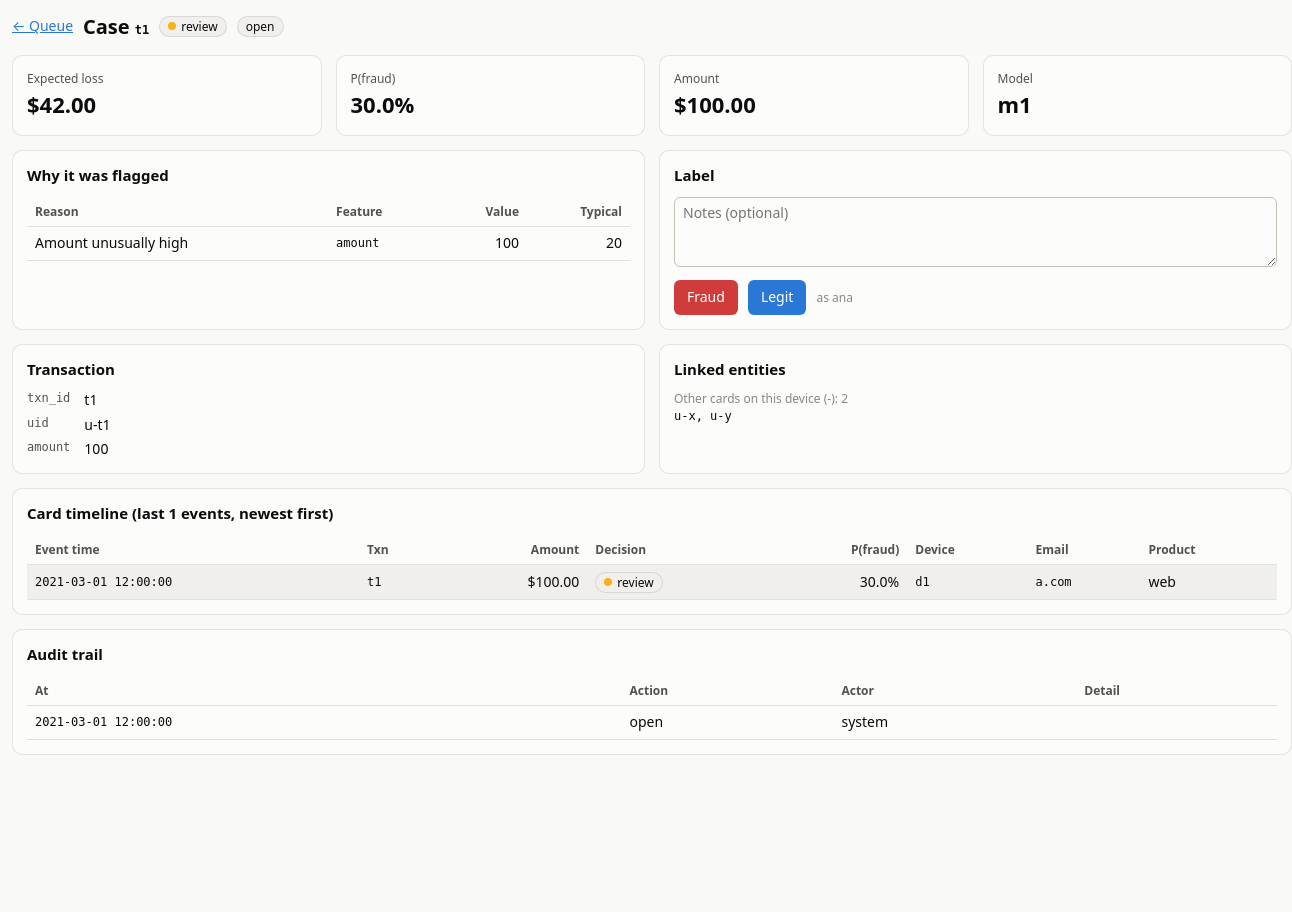
Scenario: CaseDetail › shows reasons with value vs typical, timeline, linked cards, audit, and labels with notes
The image size is (1292, 912).
Check: the text "Amount unusually high" is shown, box [27,227,328,260]
Check: the text "20" is shown, box [527,227,630,260]
Type "ring device" into the text box labelled "Notes". click: (976, 232)
box: [674,197,1277,267]
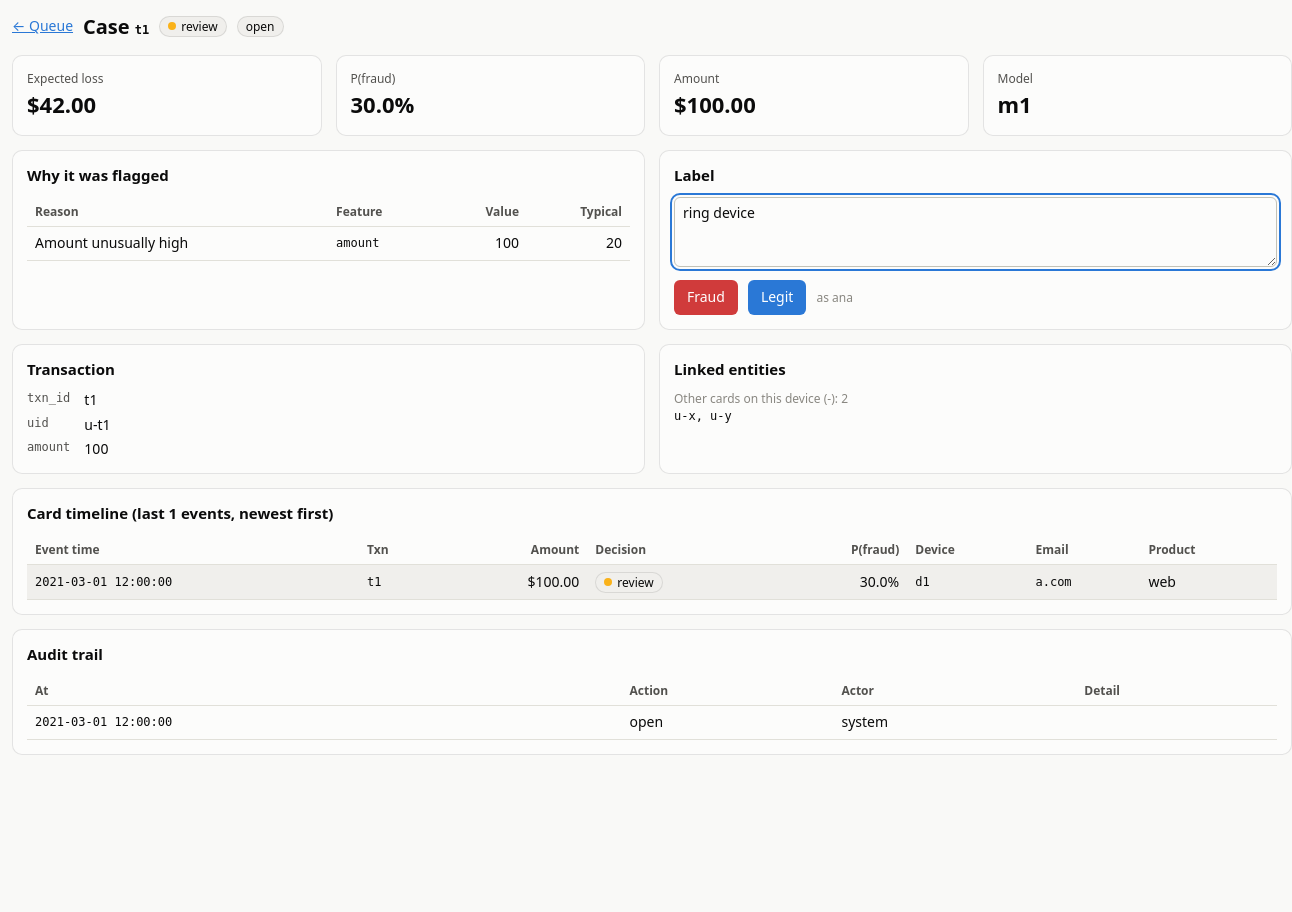
Click the button "Fraud". click: (706, 297)
box: [674,280,738,315]
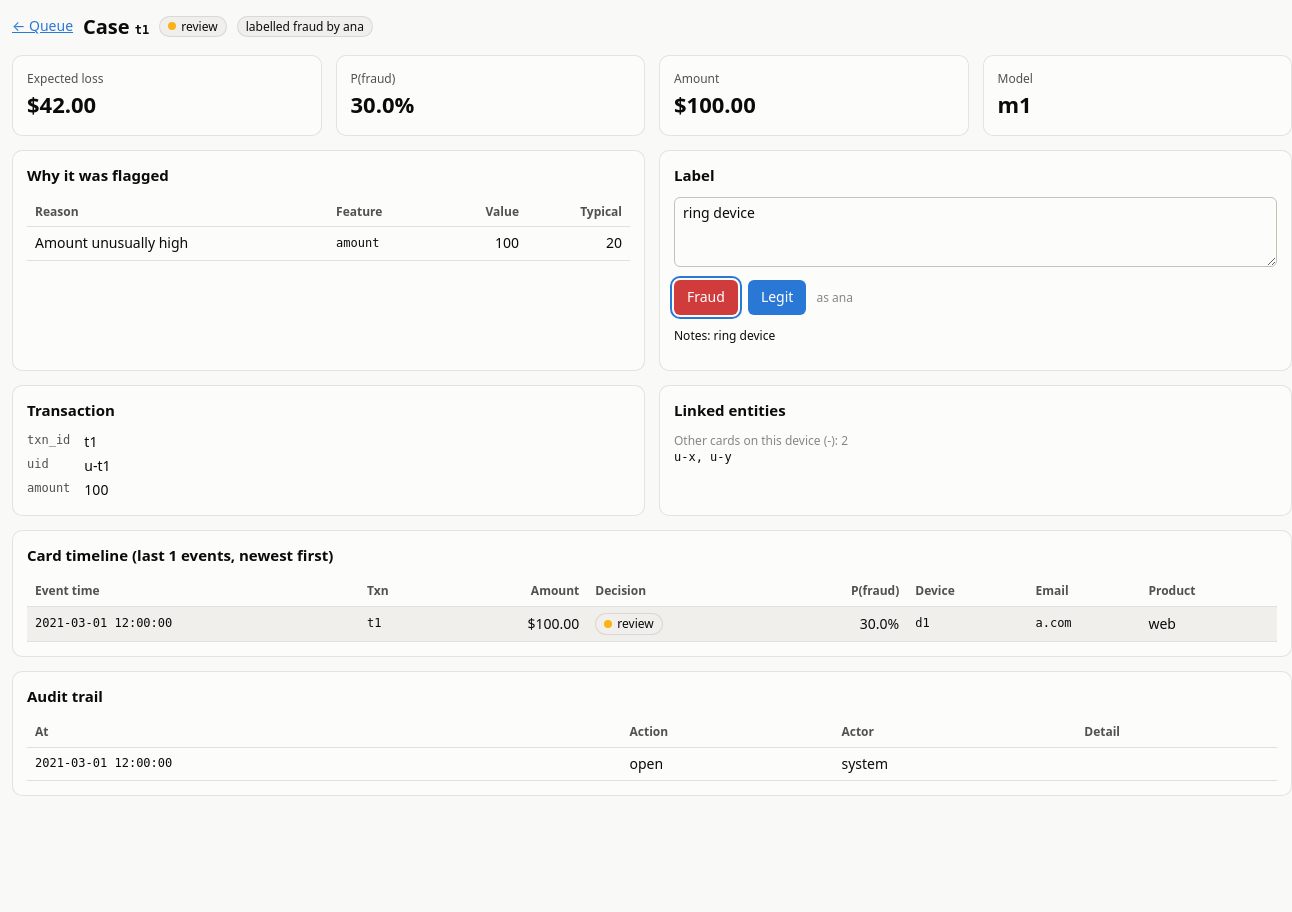
Check: the text "labelled fraud by ana" is shown, box [237,16,373,37]
